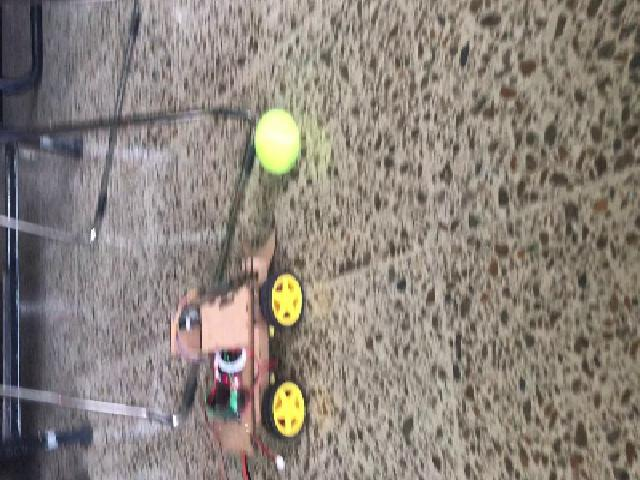Ball: (250, 108, 304, 174)
Robot: (170, 228, 307, 463)
